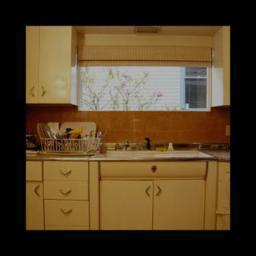Lavaplatos: (108, 139, 218, 163)
